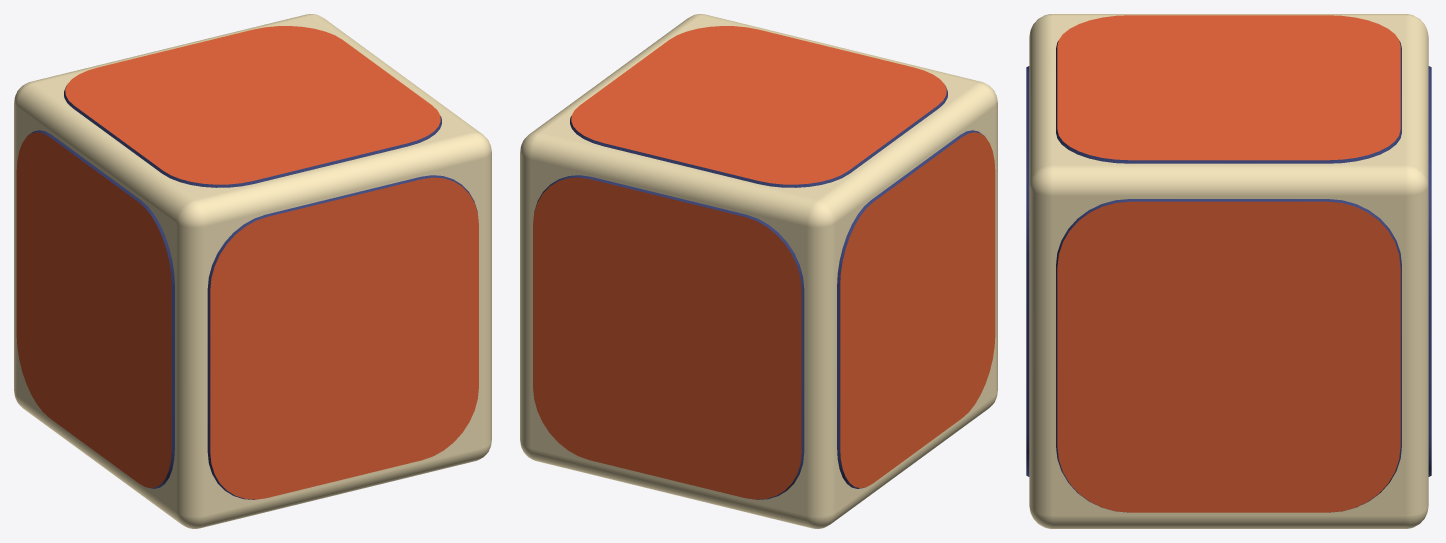
3 views of the same model, side by side, from view 1: azimuth 30°, elevation 25°; view 2: azimuth 150°, elevation 25°; view 3: azimuth 270°, elevation 25° (orthographic). The views are drawn at different scales.
Parts seen in each view (by area): view 1: R4B_Cube; view 2: R4B_Cube; view 3: R4B_Cube.
Boxes of the visible parts, <box> form: R4B_Cube: <box>14,14,491,528</box>; R4B_Cube: <box>520,14,997,528</box>; R4B_Cube: <box>1026,14,1431,528</box>.
Bounding box in the file's own units: 0.52 × 0.52 × 0.52.
